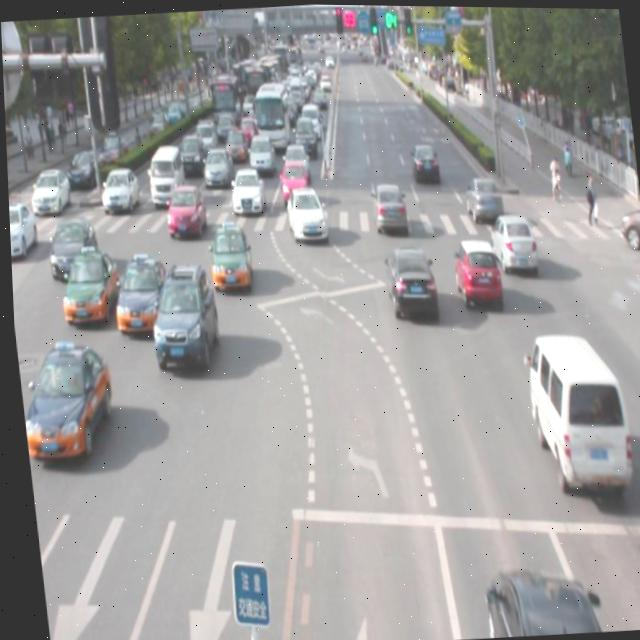car: (13, 336, 114, 465), (475, 558, 597, 638), (142, 259, 218, 369), (106, 249, 170, 337), (54, 244, 117, 326), (381, 242, 437, 317), (448, 234, 500, 308), (204, 219, 251, 290), (485, 209, 535, 270), (161, 179, 206, 241), (281, 182, 326, 242), (367, 176, 405, 232), (461, 171, 499, 220)
truck: (518, 325, 627, 488)
